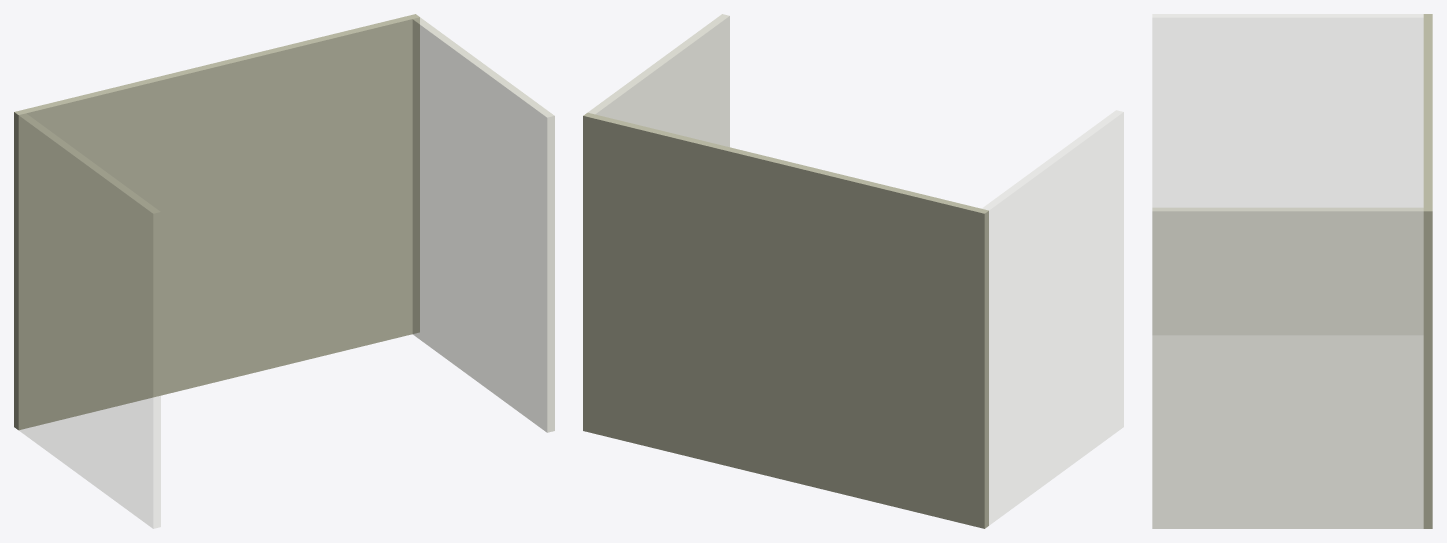
File: TestGltf4Transparency.gltf
3 views of the same model, side by side, from view 1: azimuth 30°, elevation 25°; view 2: azimuth 150°, elevation 25°; view 3: azimuth 270°, elevation 25° (orthographic).
Visible parts, largest first — view 1: {9B914EC8-FF25-4add-834C-FE20E21041BC}_Node, {A38A591F-DD13-4cbc-A842-138965274C72}_Node, {E1248EB0-9B30-49e5-A715-3F4185C9F774}_Node; view 2: {9B914EC8-FF25-4add-834C-FE20E21041BC}_Node, {A38A591F-DD13-4cbc-A842-138965274C72}_Node, {E1248EB0-9B30-49e5-A715-3F4185C9F774}_Node; view 3: {E1248EB0-9B30-49e5-A715-3F4185C9F774}_Node, {A38A591F-DD13-4cbc-A842-138965274C72}_Node, {9B914EC8-FF25-4add-834C-FE20E21041BC}_Node.
Part boxes in pixels (bbox=[...]): {9B914EC8-FF25-4add-834C-FE20E21041BC}_Node: bbox=[14, 14, 419, 430]; {A38A591F-DD13-4cbc-A842-138965274C72}_Node: bbox=[14, 110, 160, 528]; {E1248EB0-9B30-49e5-A715-3F4185C9F774}_Node: bbox=[412, 15, 554, 432]; {9B914EC8-FF25-4add-834C-FE20E21041BC}_Node: bbox=[583, 112, 988, 528]; {A38A591F-DD13-4cbc-A842-138965274C72}_Node: bbox=[978, 110, 1123, 524]; {E1248EB0-9B30-49e5-A715-3F4185C9F774}_Node: bbox=[583, 14, 729, 432]; {E1248EB0-9B30-49e5-A715-3F4185C9F774}_Node: bbox=[1152, 207, 1432, 528]; {A38A591F-DD13-4cbc-A842-138965274C72}_Node: bbox=[1152, 14, 1423, 207]; {9B914EC8-FF25-4add-834C-FE20E21041BC}_Node: bbox=[1423, 14, 1432, 528].
Bounding box in the file's own units: 1 × 0.75 × 0.6.
